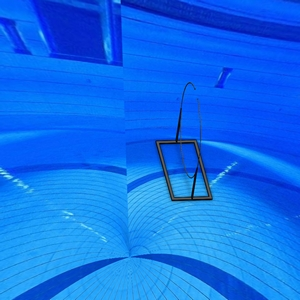circle: (155, 81, 214, 205)
